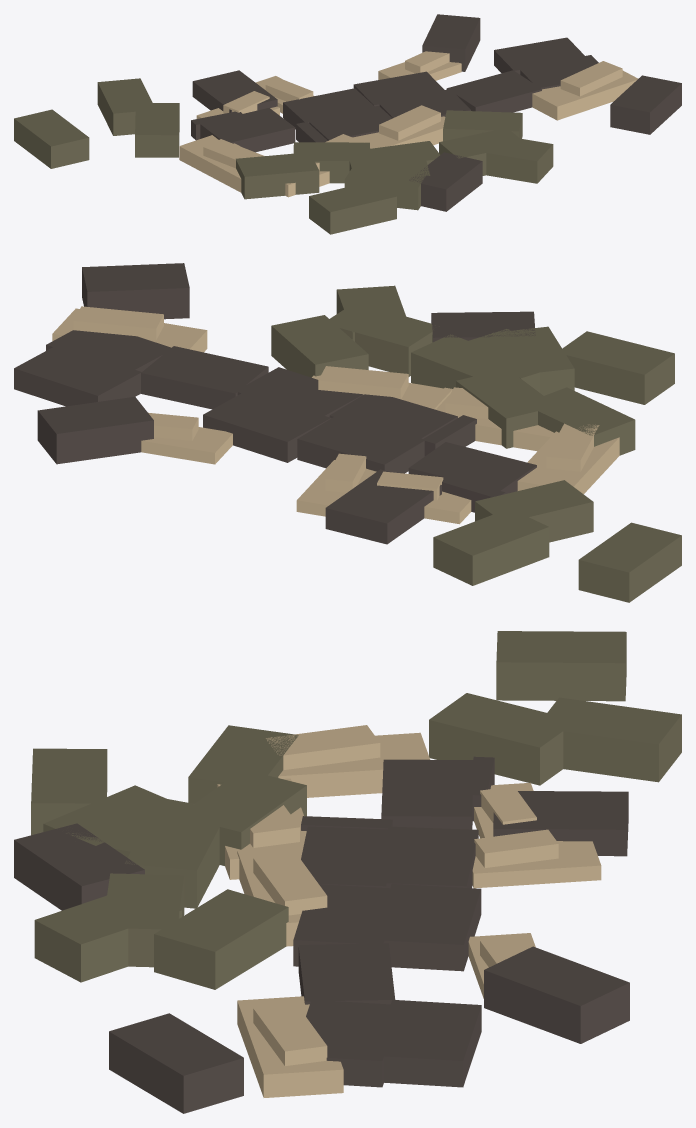
The model's file is SM_SacosRemate_v0_Recto_e3_Brecha_LOD0.fbx.
3 renders of one model, top to bottom at view 1: azimuth 30°, elevation 25°; view 2: azimuth 150°, elevation 25°; view 3: azimuth 270°, elevation 25°, orthographic. The views are drawn at different scales.
Parts seen in each view (by area): view 1: SM_sacos_piezas_v23_LOD0; view 2: SM_sacos_piezas_v23_LOD0; view 3: SM_sacos_piezas_v23_LOD0.
Part boxes in pixels (x1=…): SM_sacos_piezas_v23_LOD0: x1=14, y1=14, x2=681, y2=234; SM_sacos_piezas_v23_LOD0: x1=14, y1=263, x2=681, y2=602; SM_sacos_piezas_v23_LOD0: x1=14, y1=631, x2=681, y2=1113.
Bounding box in the file's own units: 6.52 × 0.26 × 4.14.
